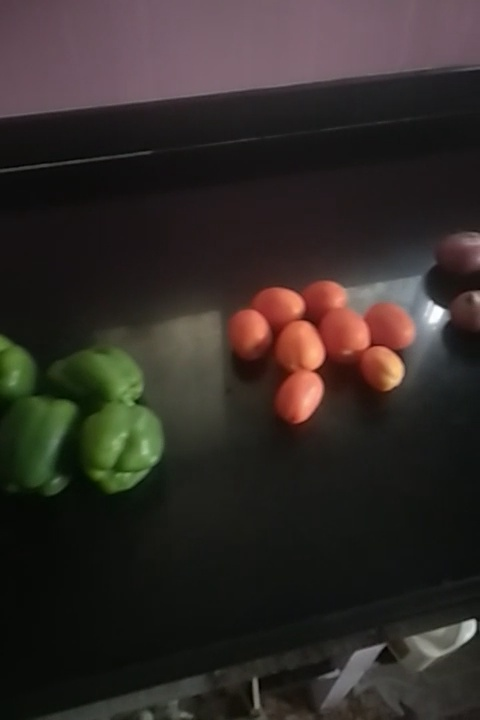capsicum: (1, 390, 79, 506), (83, 405, 159, 504), (56, 342, 154, 409), (1, 330, 44, 396)
onion: (433, 233, 480, 284), (443, 290, 480, 338)
tomato: (273, 374, 337, 429), (358, 299, 415, 350), (312, 307, 366, 359), (270, 321, 321, 371), (359, 339, 407, 389), (293, 277, 350, 319), (228, 306, 271, 361), (259, 286, 309, 330)
